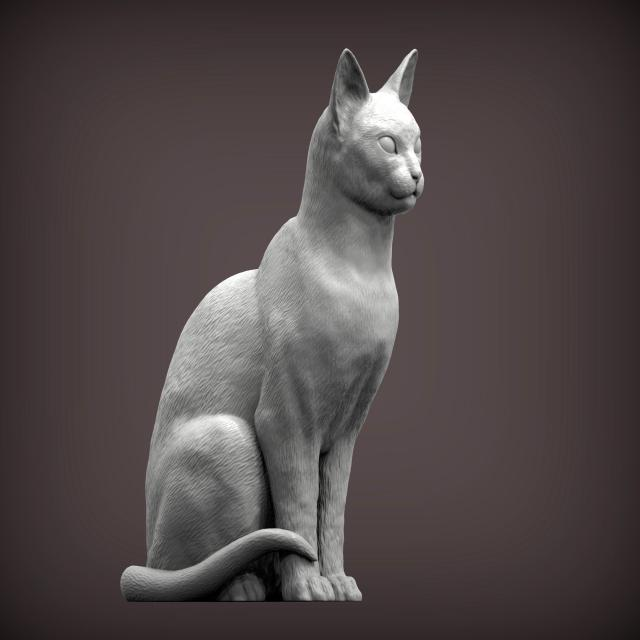Without deffect: (103, 24, 427, 636)
